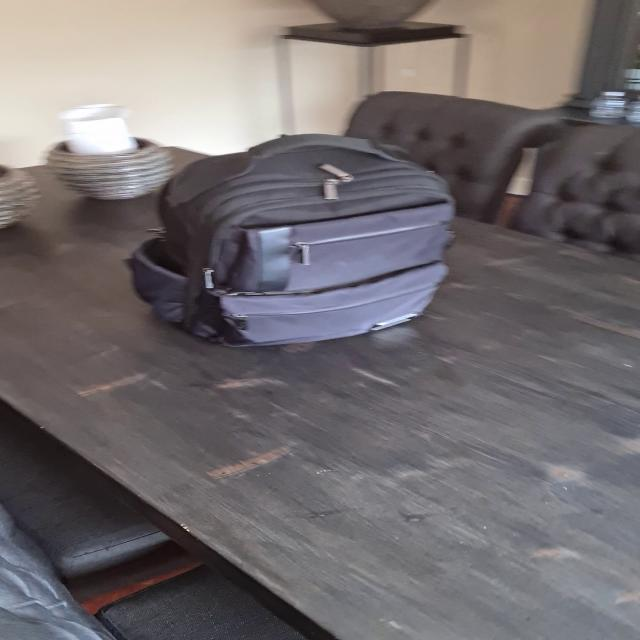backpack: (114, 116, 474, 350)
